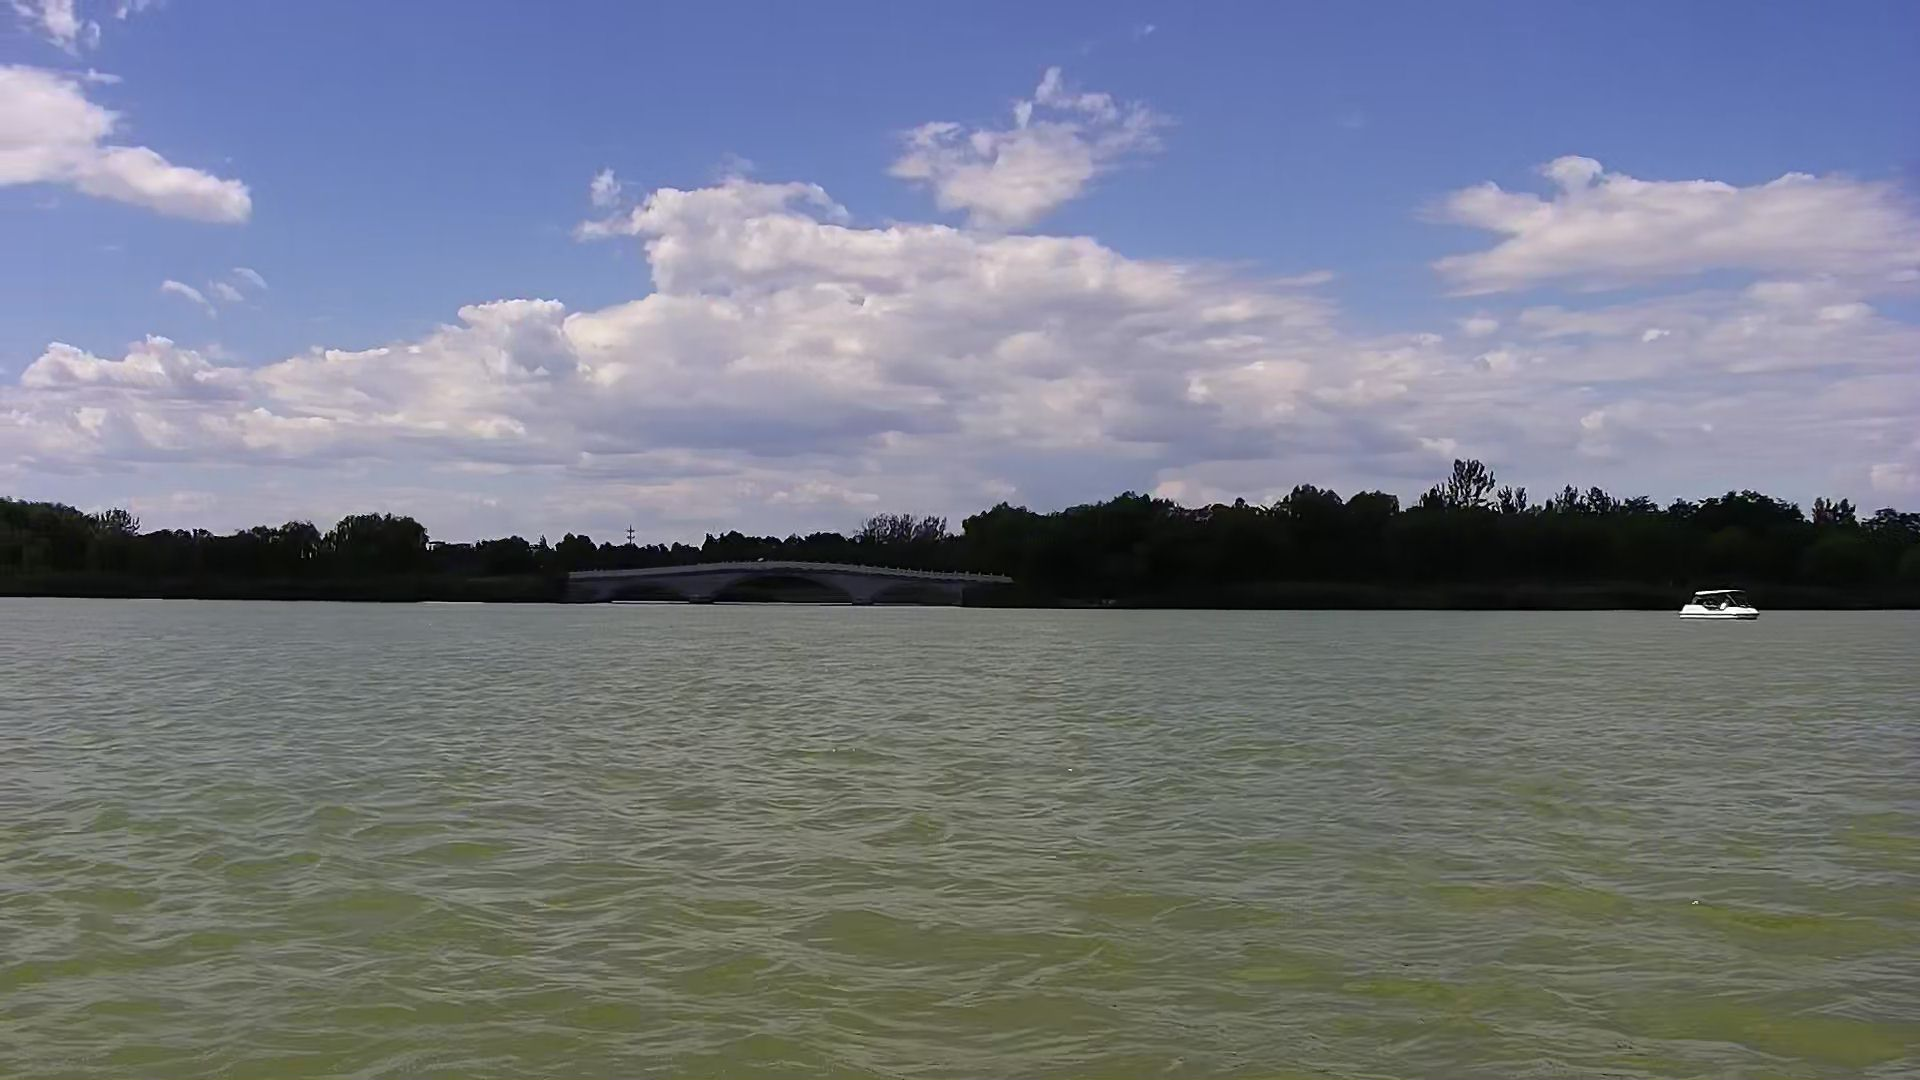boat: (1680, 582, 1766, 630)
bridge: (563, 555, 1009, 611)
